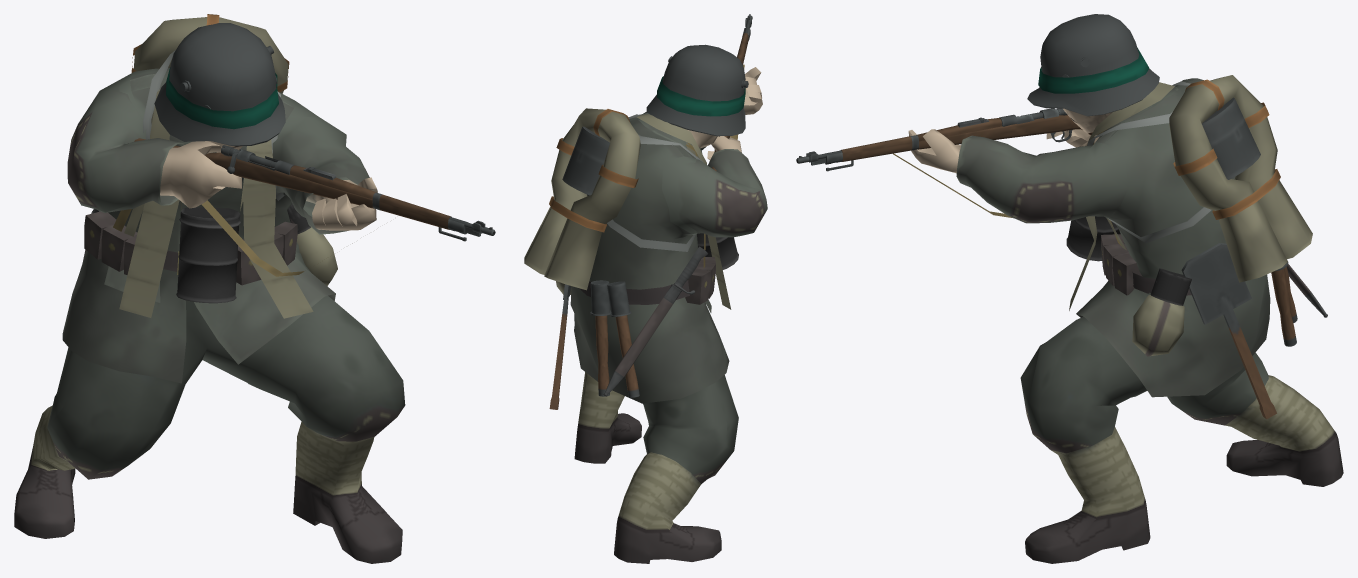
Rendered from 1918_de_grun.fbx.
3 renders of one model, left to right at view 1: azimuth 30°, elevation 25°; view 2: azimuth 150°, elevation 25°; view 3: azimuth 270°, elevation 25°, orthographic. The views are drawn at different scales.
Parts seen in each view (by area): view 1: Cube.914; view 2: Cube.914; view 3: Cube.914.
Boxes of the visible parts, bbox=[...] form: Cube.914: bbox=[14, 14, 495, 563]; Cube.914: bbox=[524, 14, 767, 563]; Cube.914: bbox=[796, 14, 1343, 563].
Bounding box in the file's own units: 74.28 × 143 × 148.
